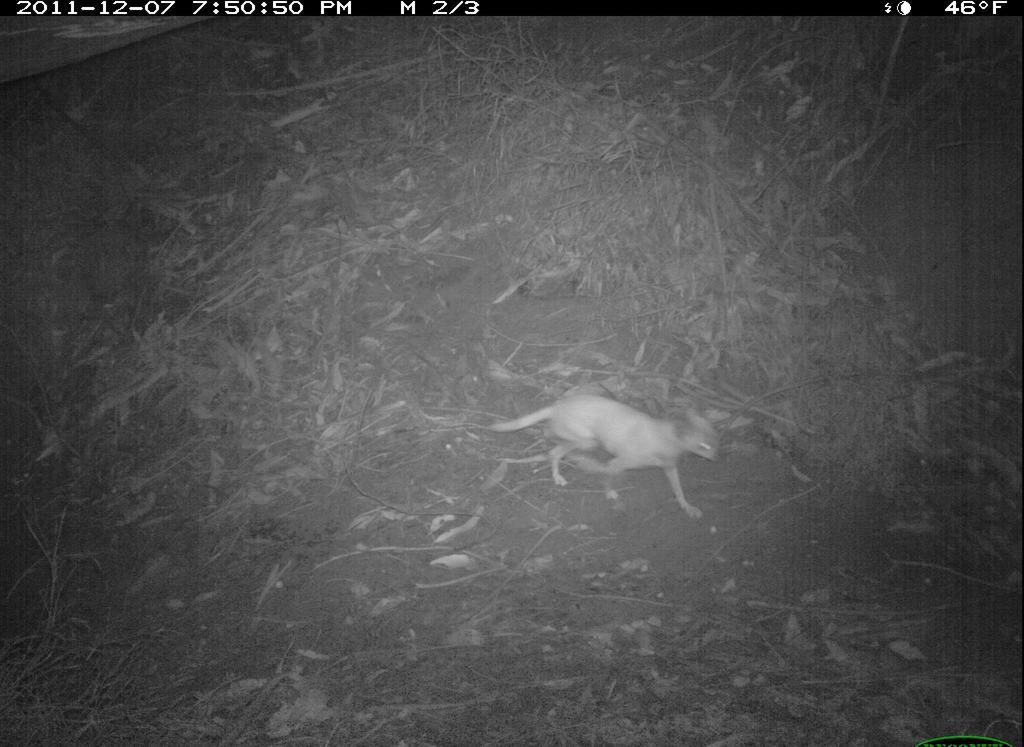dog: (461, 374, 729, 528)
